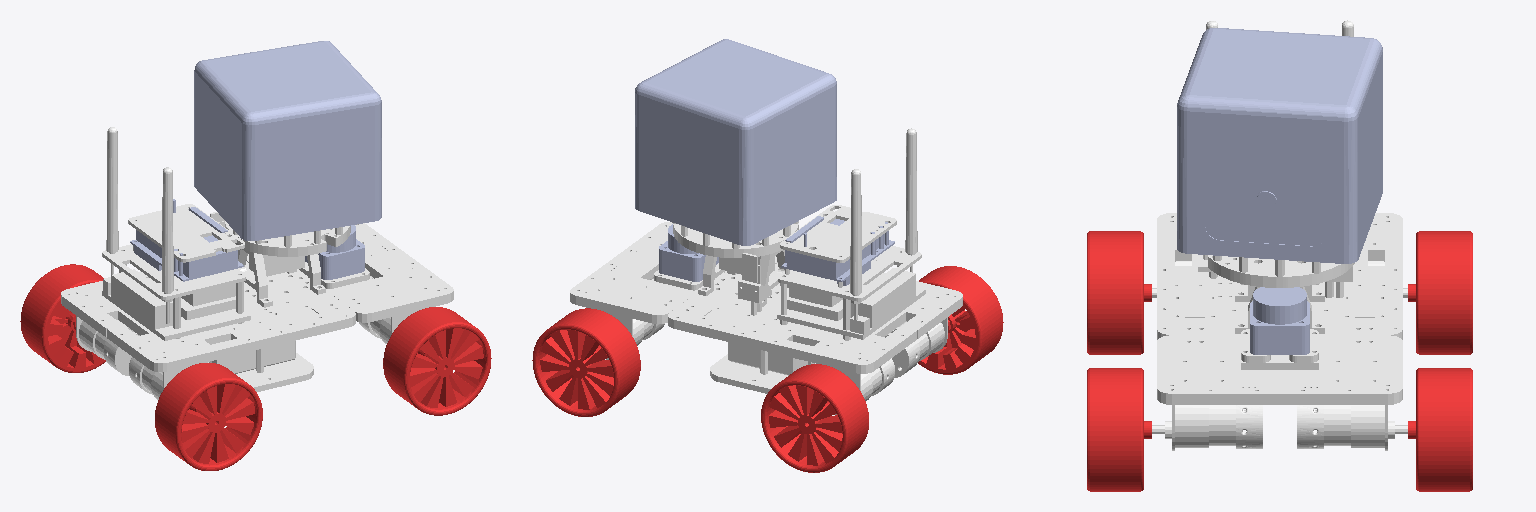
robot.urdf — car_description:
<?xml version="1.0" encoding="utf-8"?>
<!-- This URDF was automatically created by SolidWorks to URDF Exporter! Originally created by [author] ([email redacted]) 
     Commit Version: 1.6.0-1-g15f4949  Build Version: 1.6.7594.29634
     For more information, please see http://wiki.ros.org/sw_urdf_exporter -->
<robot
  name="car_description">
  <link
    name="base_link">
    <inertial>
      <origin
        xyz="0.00385577446640479 -5.28549064362791E-06 -0.00678892934073978"
        rpy="0 0 0" />
      <mass
        value="1.1259205200241" />
      <inertia
        ixx="0.00121558715103643"
        ixy="-2.92631110981525E-06"
        ixz="-5.11852486548908E-06"
        iyy="0.0010529029183663"
        iyz="-5.11454974354344E-07"
        izz="0.00213009654147591" />
    </inertial>
    <visual>
      <origin
        xyz="0 0 0"
        rpy="0 0 0" />
      <geometry>
        <mesh
          filename="package://turtlebot3_simulations/turtlebot3_gazebo/models/car/meshes/base_link.STL" />
      </geometry>
      <material
        name="">
        <color
          rgba="1 1 1 0.4" />
      </material>
    </visual>
    <collision>
      <origin
        xyz="0 0 0"
        rpy="0 0 0" />
      <geometry>
        <mesh
          filename="package://turtlebot3_simulations/turtlebot3_gazebo/models/car/meshes/base_link.STL" />
      </geometry>
    </collision>
  </link>
  <link
    name="Wheel1_Link">
    <inertial>
      <origin
        xyz="-2.77555756156289E-17 0.00300778309197161 -6.93889390390723E-18"
        rpy="0 0 0" />
      <mass
        value="0.104332424021832" />
      <inertia
        ixx="6.02373130572536E-05"
        ixy="-6.00656581852211E-20"
        ixz="1.0960647987307E-20"
        iyy="0.000101411762990075"
        iyz="2.84738280055984E-21"
        izz="6.02373130572536E-05" />
    </inertial>
    <visual>
      <origin
        xyz="0 0 0"
        rpy="0 0 0" />
      <geometry>
        <mesh
          filename="package://turtlebot3_simulations/turtlebot3_gazebo/models/car/meshes/Wheel1_Link.STL" />
      </geometry>
      <material
        name="">
        <color
          rgba="0.968627450980392 0.258823529411765 0.258823529411765 1" />
      </material>
    </visual>
    <collision>
      <origin
        xyz="0 0 0"
        rpy="0 0 0" />
      <geometry>
        <mesh
          filename="package://turtlebot3_simulations/turtlebot3_gazebo/models/car/meshes/Wheel1_Link.STL" />
      </geometry>
    </collision>
  </link>
  <joint
    name="Wheel1_Joint"
    type="continuous">
    <origin
      xyz="0.120600000000002 0.103299999999998 -0.0420999999999999"
      rpy="0 0 0" />
    <parent
      link="base_link" />
    <child
      link="Wheel1_Link" />
    <axis
      xyz="0 -1 0" />
  </joint>
  <link
    name="Wheel2_Link">
    <inertial>
      <origin
        xyz="2.77555756156289E-17 -0.0030077830919716 -2.08166817117217E-17"
        rpy="0 0 0" />
      <mass
        value="0.104332424021832" />
      <inertia
        ixx="6.02373130572536E-05"
        ixy="-1.25896013174041E-20"
        ixz="-1.11182939506063E-20"
        iyy="0.000101411762990075"
        iyz="-3.9407489651342E-21"
        izz="6.02373130572536E-05" />
    </inertial>
    <visual>
      <origin
        xyz="0 0 0"
        rpy="0 0 0" />
      <geometry>
        <mesh
          filename="package://turtlebot3_simulations/turtlebot3_gazebo/models/car/meshes/Wheel2_Link.STL" />
      </geometry>
      <material
        name="">
        <color
          rgba="0.968627450980392 0.258823529411765 0.258823529411765 1" />
      </material>
    </visual>
    <collision>
      <origin
        xyz="0 0 0"
        rpy="0 0 0" />
      <geometry>
        <mesh
          filename="package://turtlebot3_simulations/turtlebot3_gazebo/models/car/meshes/Wheel2_Link.STL" />
      </geometry>
    </collision>
  </link>
  <joint
    name="Wheel2_Joint"
    type="continuous">
    <origin
      xyz="0.120599999999998 -0.103300000000002 -0.0421"
      rpy="0 0 0" />
    <parent
      link="base_link" />
    <child
      link="Wheel2_Link" />
    <axis
      xyz="0 1 0" />
  </joint>
  <link
    name="Wheel3_Link">
    <inertial>
      <origin
        xyz="6.93889390390723E-18 0.00300778309197158 -6.93889390390723E-18"
        rpy="0 0 0" />
      <mass
        value="0.104332424021832" />
      <inertia
        ixx="6.02373130572536E-05"
        ixy="-2.1745731605275E-20"
        ixz="1.09832446948927E-21"
        iyy="0.000101411762990075"
        iyz="-6.38133161641675E-21"
        izz="6.02373130572536E-05" />
    </inertial>
    <visual>
      <origin
        xyz="0 0 0"
        rpy="0 0 0" />
      <geometry>
        <mesh
          filename="package://turtlebot3_simulations/turtlebot3_gazebo/models/car/meshes/Wheel3_Link.STL" />
      </geometry>
      <material
        name="">
        <color
          rgba="0.968627450980392 0.258823529411765 0.258823529411765 1" />
      </material>
    </visual>
    <collision>
      <origin
        xyz="0 0 0"
        rpy="0 0 0" />
      <geometry>
        <mesh
          filename="package://turtlebot3_simulations/turtlebot3_gazebo/models/car/meshes/Wheel3_Link.STL" />
      </geometry>
    </collision>
  </link>
  <joint
    name="Wheel3_Joint"
    type="continuous">
    <origin
      xyz="-0.0894999999999984 0.103300000000001 -0.0420999999999999"
      rpy="0 0 0" />
    <parent
      link="base_link" />
    <child
      link="Wheel3_Link" />
    <axis
      xyz="0 1 0" />
  </joint>
  <link
    name="Wheel4_Link">
    <inertial>
      <origin
        xyz="-6.93889390390723E-18 -0.00300778309197161 6.93889390390723E-18"
        rpy="0 0 0" />
      <mass
        value="0.104332424021832" />
      <inertia
        ixx="6.02373130572536E-05"
        ixy="-7.10434495655617E-21"
        ixz="-8.82312523497114E-21"
        iyy="0.000101411762990075"
        iyz="-2.09052915827973E-21"
        izz="6.02373130572536E-05" />
    </inertial>
    <visual>
      <origin
        xyz="0 0 0"
        rpy="0 0 0" />
      <geometry>
        <mesh
          filename="package://turtlebot3_simulations/turtlebot3_gazebo/models/car/meshes/Wheel4_Link.STL" />
      </geometry>
      <material
        name="">
        <color
          rgba="0.968627450980392 0.258823529411765 0.258823529411765 1" />
      </material>
    </visual>
    <collision>
      <origin
        xyz="0 0 0"
        rpy="0 0 0" />
      <geometry>
        <mesh
          filename="package://turtlebot3_simulations/turtlebot3_gazebo/models/car/meshes/Wheel4_Link.STL" />
      </geometry>
    </collision>
  </link>
  <joint
    name="Wheel4_Joint"
    type="continuous">
    <origin
      xyz="-0.0895000000000016 -0.103299999999999 -0.0420999999999999"
      rpy="0 0 0" />
    <parent
      link="base_link" />
    <child
      link="Wheel4_Link" />
    <axis
      xyz="0 -1 0" />
  </joint>
  <link
    name="Laser_Link">
    <inertial>
      <origin
        xyz="5.55111512312578E-17 2.81762340560102E-17 -0.0185369001460336"
        rpy="0 0 0" />
      <mass
        value="0.0435791296962764" />
      <inertia
        ixx="8.67684171390374E-06"
        ixy="-4.09389779728385E-21"
        ixz="1.00565194348086E-20"
        iyy="8.67684171390374E-06"
        iyz="6.56641139163432E-21"
        izz="9.52052043485644E-06" />
    </inertial>
    <visual>
      <origin
        xyz="0 0 0"
        rpy="0 0 0" />
      <geometry>
        <mesh
          filename="package://turtlebot3_simulations/turtlebot3_gazebo/models/car/meshes/Laser_Link.STL" />
      </geometry>
      <material
        name="">
        <color
          rgba="0.792156862745098 0.819607843137255 0.933333333333333 1" />
      </material>
    </visual>
    <collision>
      <origin
        xyz="0 0 0"
        rpy="0 0 0" />
      <geometry>
        <mesh
          filename="package://turtlebot3_simulations/turtlebot3_gazebo/models/car/meshes/Laser_Link.STL" />
      </geometry>
    </collision>
    <!-- 添加激光雷达传感器配置 -->
    <gazebo reference="Laser_Link">
        <sensor type="ray" name="hls_lfcd_lds">
            <always_on>true</always_on>
            <visualize>true</visualize>
            <update_rate>30</update_rate>
            <ray>
                <scan>
                    <horizontal>
                        <samples>180</samples>
                        <resolution>1.000000</resolution>
                        <min_angle>-1.57079</min_angle>
                        <max_angle>1.57079</max_angle>
                    </horizontal>
                </scan>
                <range>
                    <min>0.20000</min>
                    <max>7</max>
                    <resolution>0.015000</resolution>
                </range>
            </ray>
            <plugin name="car_laserscan" filename="libgazebo_ros_ray_sensor.so">
                <ros>
                    <remapping>~/out:=scan</remapping>
                </ros>
                <output_type>sensor_msgs/LaserScan</output_type>
                <frame_name>Laser_Link</frame_name>
            </plugin>
        </sensor>
    </gazebo>
  </link>
  <joint
    name="Laser_Joint"
    type="fixed">
    <origin
      xyz="0.0875000000000002 0 0.039"
      rpy="0 0 0" />
    <parent
      link="base_link" />
    <child
      link="Laser_Link" />
    <axis
      xyz="0 0 0" />
  </joint>
  <link
    name="Rotate_Link">
    <inertial>
      <origin
        xyz="0.00140937910803471 0.000586988203065499 0.0329656791245305"
        rpy="0 0 0" />
      <mass
        value="0.194447972303587" />
      <inertia
        ixx="0.000232102462635404"
        ixy="9.32034761938706E-07"
        ixz="-2.14617010579E-06"
        iyy="0.000238130924502294"
        iyz="2.72926301777156E-07"
        izz="0.000387667416319594" />
    </inertial>
    <visual>
      <origin
        xyz="0 0 0"
        rpy="0 0 0" />
      <geometry>
        <mesh
          filename="package://turtlebot3_simulations/turtlebot3_gazebo/models/car/meshes/Rotate_Link.STL" />
      </geometry>
      <material
        name="">
        <color
          rgba="0.792156862745098 0.819607843137255 0.933333333333333 1" />
      </material>
    </visual>
    <collision>
      <origin
        xyz="0 0 0"
        rpy="0 0 0" />
      <geometry>
        <mesh
          filename="package://turtlebot3_simulations/turtlebot3_gazebo/models/car/meshes/Rotate_Link.STL" />
      </geometry>
    </collision>
  </link>
  <joint
    name="Rotate_Joint"
    type="continuous">
    <origin
      xyz="0.045 0 0.0624"
      rpy="0 0 0" />
    <parent
      link="base_link" />
    <child
      link="Rotate_Link" />
    <axis
      xyz="0 0 -1" />
    <limit
      lower="-2.4"
      upper="2.4"
      effort="0"
      velocity="1" />
  </joint>
  <link
    name="Camera_Link">
    <inertial>
      <origin
        xyz="-0.0122187828744362 0.00181025986705102 4.7015781001053E-06"
        rpy="0 0 0" />
      <mass
        value="0.0525016575385778" />
      <inertia
        ixx="3.39175949884477E-05"
        ixy="-4.52830286647172E-06"
        ixz="1.48737829289248E-09"
        iyy="5.92903286632603E-06"
        iyz="-2.85795865670644E-10"
        izz="3.47955193576065E-05" />
    </inertial>
    <visual>
      <origin
        xyz="0 0 0"
        rpy="0 0 0" />
      <geometry>
        <mesh
          filename="package://turtlebot3_simulations/turtlebot3_gazebo/models/car/meshes/Camera_Link.STL" />
      </geometry>
      <material
        name="">
        <color
          rgba="0.792156862745098 0.819607843137255 0.933333333333333 1" />
      </material>
    </visual>
    <collision>
      <origin
        xyz="0 0 0"
        rpy="0 0 0" />
      <geometry>
        <mesh
          filename="package://turtlebot3_simulations/turtlebot3_gazebo/models/car/meshes/Camera_Link.STL" />
      </geometry>
    </collision>
  </link>
  <joint
    name="Camera_Joint"
    type="fixed">
    <origin
      xyz="0.0582974023785422 -0.00907815377234829 0.0309999999999999"
      rpy="0 0 0" />
    <parent
      link="Rotate_Link" />
    <child
      link="Camera_Link" />
    <axis
      xyz="0 0 0" />
  </joint>
  <link
    name="IMU_Link">
    <inertial>
      <origin
        xyz="-0.0113313612234125 -0.0113334300239669 -0.00990071533408837"
        rpy="0 0 0" />
      <mass
        value="0.0822710026800078" />
      <inertia
        ixx="4.63026191664725E-05"
        ixy="-8.59443623841917E-07"
        ixz="-1.12793854458609E-06"
        iyy="2.09520749911415E-05"
        iyz="2.01928793917295E-07"
        izz="6.01472516141147E-05" />
    </inertial>
    <visual>
      <origin
        xyz="0 0 0"
        rpy="0 0 0" />
      <geometry>
        <mesh
          filename="package://turtlebot3_simulations/turtlebot3_gazebo/models/car/meshes/IMU_Link.STL" />
      </geometry>
      <material
        name="">
        <color
          rgba="0.792156862745098 0.819607843137255 0.933333333333333 1" />
      </material>
    </visual>
    <collision>
      <origin
        xyz="0 0 0"
        rpy="0 0 0" />
      <geometry>
        <mesh
          filename="package://turtlebot3_simulations/turtlebot3_gazebo/models/car/meshes/IMU_Link.STL" />
      </geometry>
    </collision>
  </link>
  <joint
    name="IMU_Joint"
    type="fixed">
    <origin
      xyz="-0.0361374624339492 0.0114342044504921 0.0646"
      rpy="0 0 0" />
    <parent
      link="base_link" />
    <child
      link="IMU_Link" />
    <axis
      xyz="0 0 0" />
  </joint>
</robot>

--- Facts derived from the render (not from the file) ---
The picture shows the robot from 3 angles, left to right: view 1: azimuth 30°, elevation 25°; view 2: azimuth 150°, elevation 25°; view 3: azimuth 270°, elevation 25°; orthographic projection.
Robot: car_description — 9 links, 8 joints (5 continuous, 3 fixed); root link base_link; default pose: every joint at zero.
Visible links, largest first — view 1: base_link, Rotate_Link, Wheel2_Link, Wheel4_Link, Wheel3_Link, IMU_Link, Laser_Link; view 2: base_link, Rotate_Link, Wheel3_Link, Wheel1_Link, Wheel4_Link, IMU_Link, Laser_Link; view 3: base_link, Rotate_Link, Wheel1_Link, Wheel2_Link, Wheel3_Link, Wheel4_Link, Laser_Link, Camera_Link.
Boxes of the visible links, x1,y1,x2,y2 form: base_link: (61, 127, 453, 399); Rotate_Link: (194, 41, 381, 240); Wheel2_Link: (383, 307, 491, 415); Wheel4_Link: (155, 363, 262, 470); Wheel3_Link: (20, 264, 105, 372); IMU_Link: (130, 199, 243, 281); Laser_Link: (305, 225, 364, 279); base_link: (570, 128, 962, 414); Rotate_Link: (635, 39, 836, 245); Wheel3_Link: (761, 364, 868, 472); Wheel1_Link: (532, 308, 640, 416); Wheel4_Link: (918, 266, 1003, 374); IMU_Link: (781, 216, 894, 285); Laser_Link: (659, 224, 718, 281); base_link: (1152, 20, 1407, 450); Rotate_Link: (1177, 28, 1382, 263); Wheel1_Link: (1408, 368, 1472, 491); Wheel2_Link: (1087, 368, 1151, 491); Wheel3_Link: (1408, 231, 1472, 354); Wheel4_Link: (1087, 231, 1151, 354); Laser_Link: (1250, 287, 1309, 354); Camera_Link: (1205, 213, 1326, 245).
Size in the robot's own frame: 0.2901 by 0.2506 by 0.2645 metres.
Meshes: 9 distinct files referenced, 9 mesh visuals loaded (9 binary STL).
